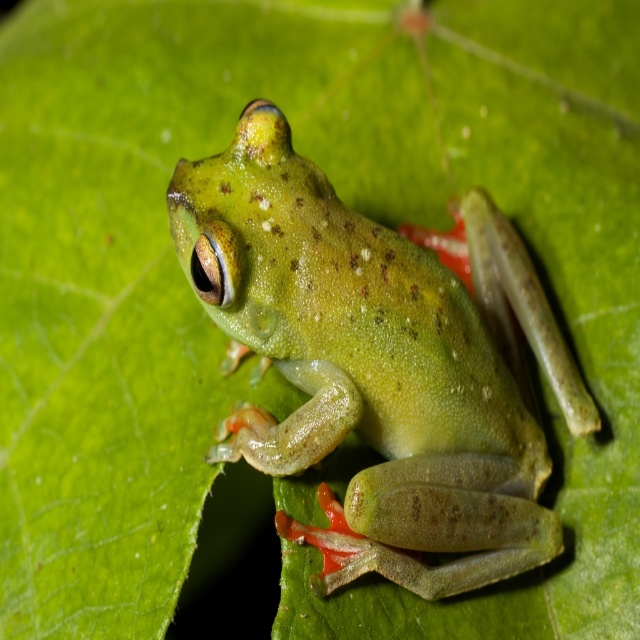Frog: (164, 93, 601, 603)
